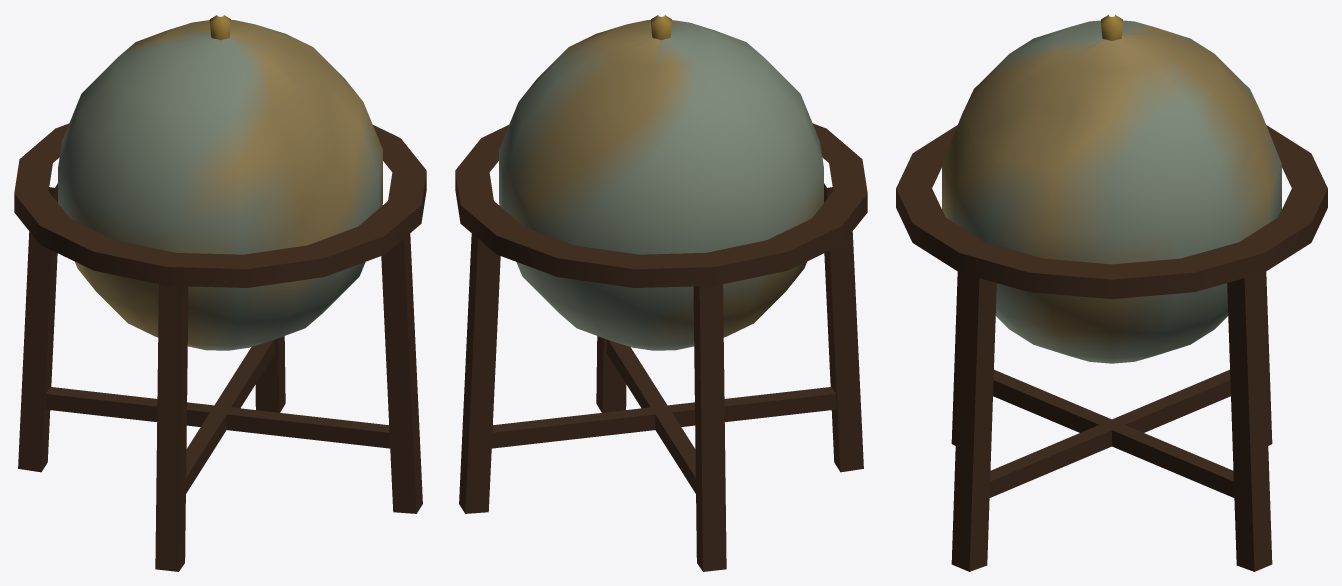
File: library.globe.faded.glb
The picture shows the model from 3 angles, left to right: view 1: azimuth 30°, elevation 25°; view 2: azimuth 150°, elevation 25°; view 3: azimuth 270°, elevation 25°; orthographic projection. The views are drawn at different scales.
Parts seen in each view (by area): view 1: library_globe_faded; view 2: library_globe_faded; view 3: library_globe_faded.
Part boxes in pixels (x1,y1,x2,y2): library_globe_faded: (14,15,426,571); library_globe_faded: (455,15,867,571); library_globe_faded: (896,15,1327,571).
Size of what is drawn, in the model's own units: 1.2 by 1.5 by 1.2.
